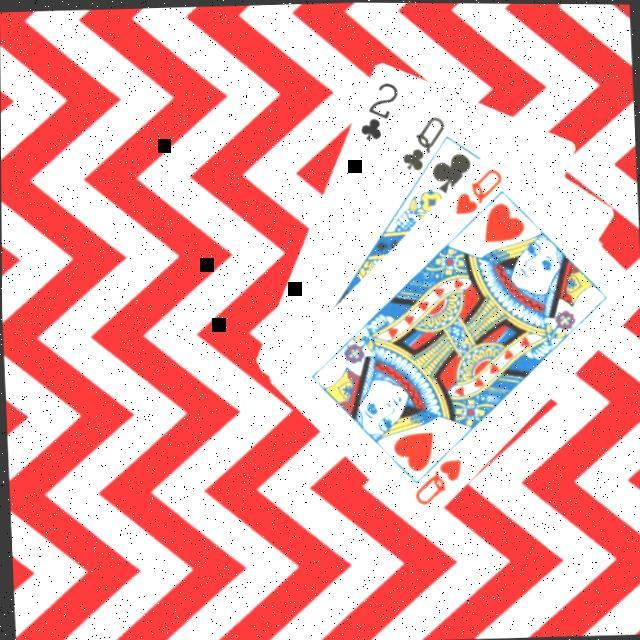2C: (356, 75, 404, 142)
QC: (398, 108, 452, 172)
QH: (409, 435, 467, 506), (451, 161, 508, 215)
